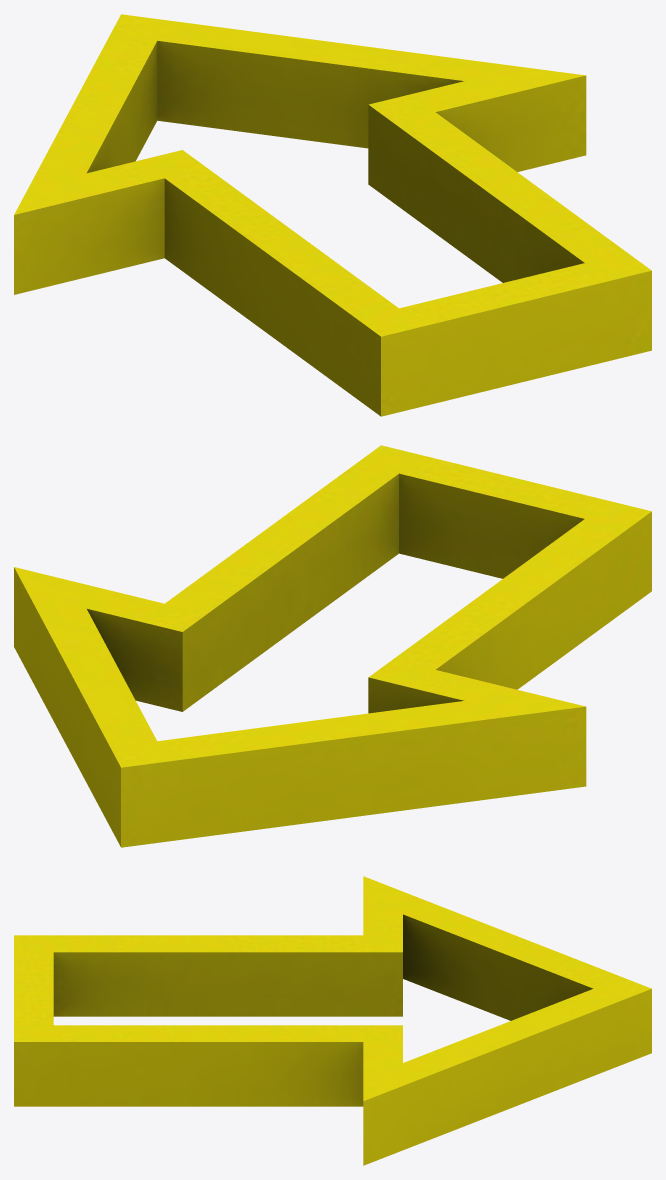
Rendered from 0818jiantou.FBX.
3 views of the same model, one above another, from view 1: azimuth 30°, elevation 25°; view 2: azimuth 150°, elevation 25°; view 3: azimuth 270°, elevation 25° (orthographic). The views are drawn at different scales.
Parts seen in each view (by area): view 1: Line001; view 2: Line001; view 3: Line001.
Part boxes in pixels (box(x1,y1,x2,y2)): Line001: box(14, 14, 651, 416); Line001: box(14, 445, 651, 847); Line001: box(14, 876, 651, 1165).
Size of the model in its own units: 150 by 20 by 179.
1 material, 1 textured.
